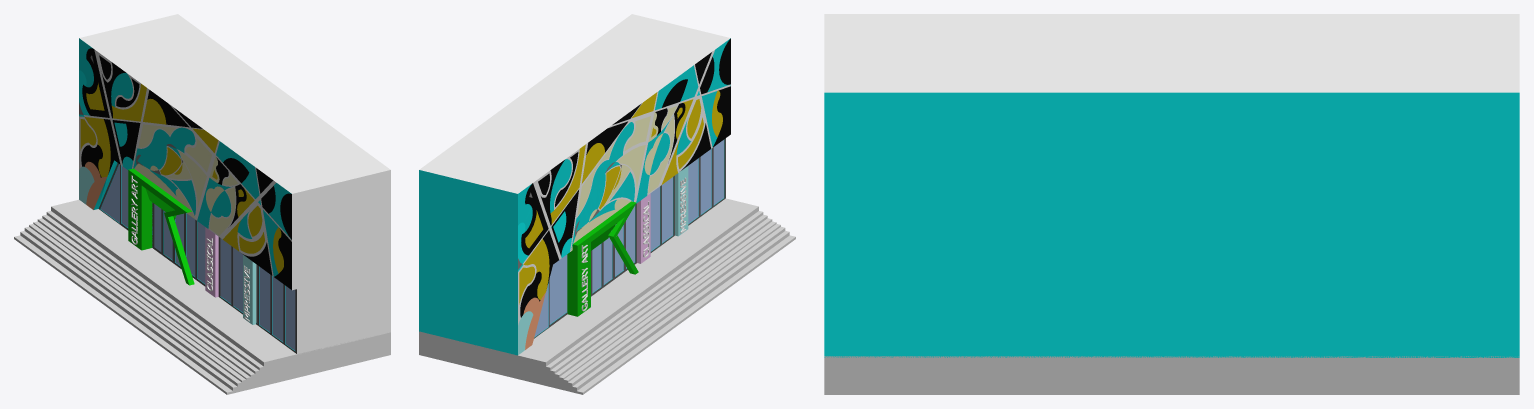
Rendered from Tòa bò sữa.dae.
3 renders of one model, left to right at view 1: azimuth 30°, elevation 25°; view 2: azimuth 150°, elevation 25°; view 3: azimuth 270°, elevation 25°, orthographic. The views are drawn at different scales.
Parts seen in each view (by area): view 1: Tòa bò sữa; view 2: Tòa bò sữa; view 3: Tòa bò sữa.
Part boxes in pixels (box(x1,y1,x2,y2)): Tòa bò sữa: box(14, 14, 390, 394); Tòa bò sữa: box(419, 14, 795, 394); Tòa bò sữa: box(824, 14, 1519, 394).
Size of the model in its own units: 37.19 by 83.7 by 40.15.
